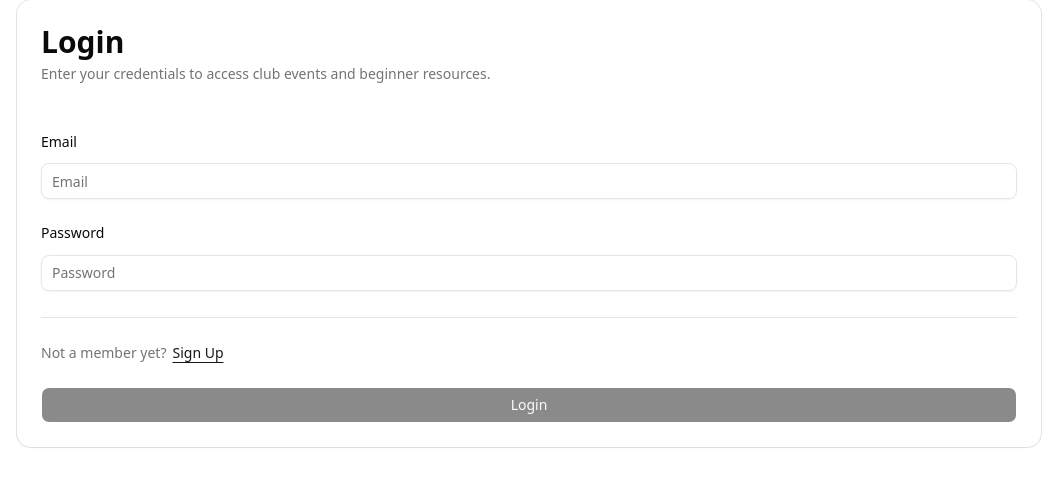
Test case: LoginForm › shows a validation error for an invalid email once the field is touched
Type "not-an-email" into the field with placeholder "Email". click: (529, 181)
box: [41,163,1017,199]
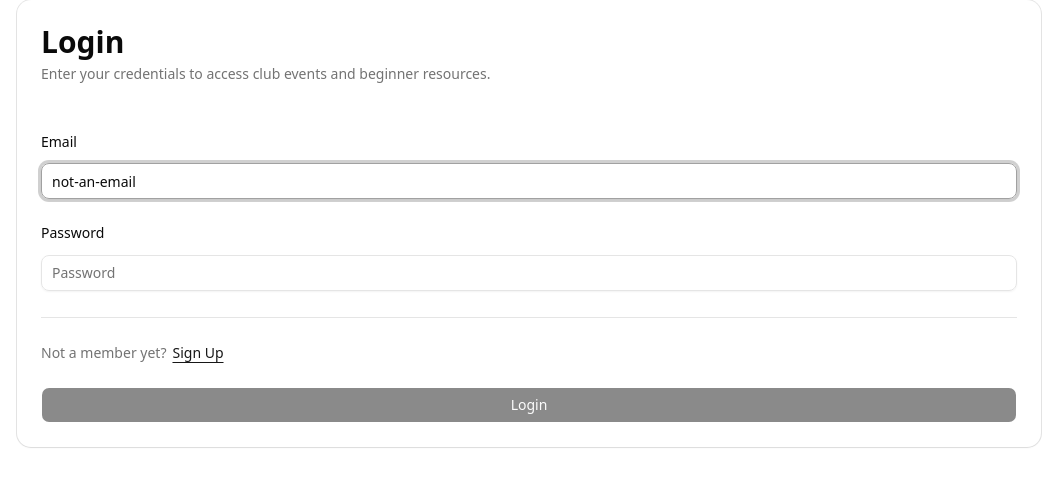
Press Tab
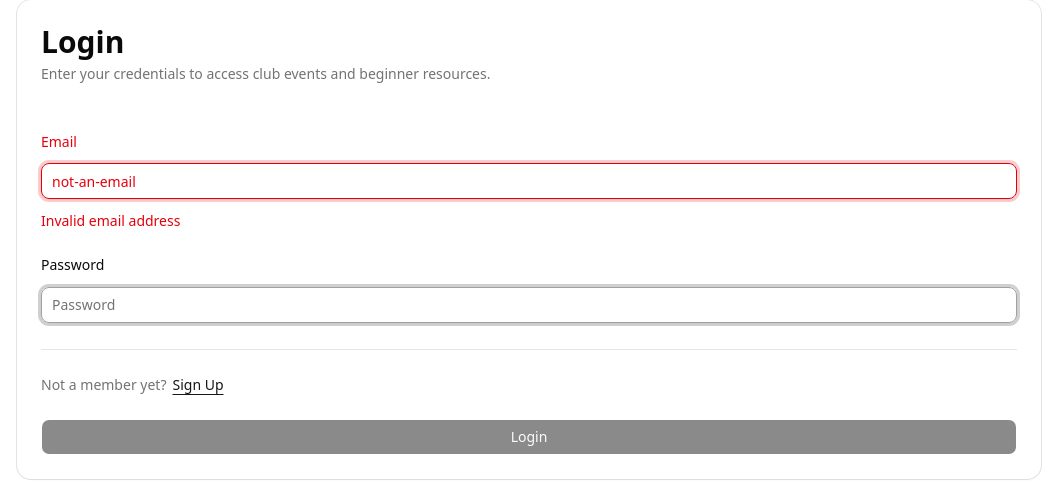
Check: the button "Login" is disabled, box [41,418,1017,454]
Check: the text "Invalid email address" is shown, box [41,211,180,230]
